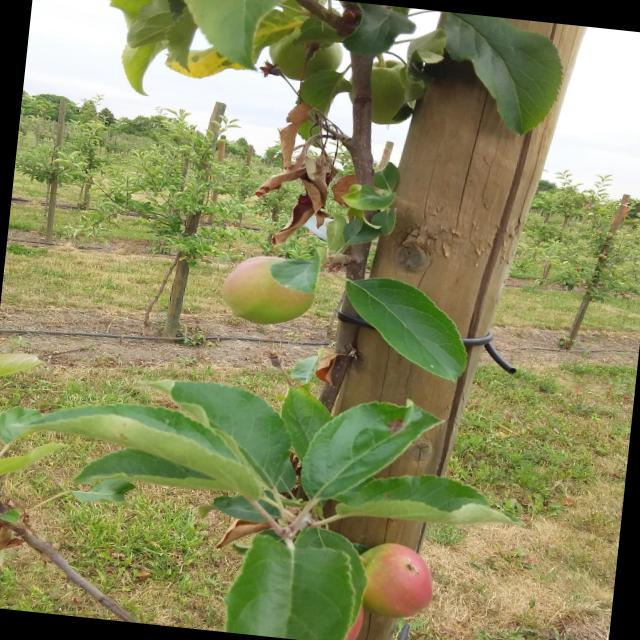-FireBlight-: (264, 95, 344, 248)
